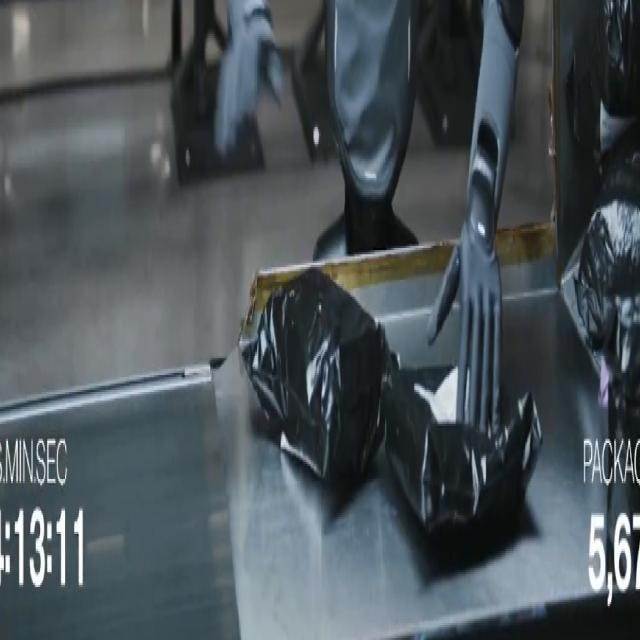package: (242, 268, 388, 483), (382, 367, 542, 534), (575, 126, 639, 351), (566, 0, 639, 161), (603, 295, 639, 548)
